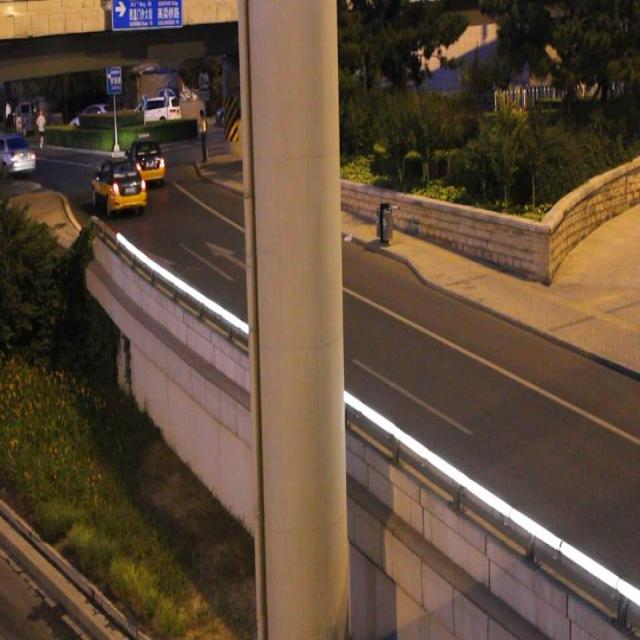car: (92, 162, 144, 210), (126, 138, 164, 182), (1, 134, 36, 177)
